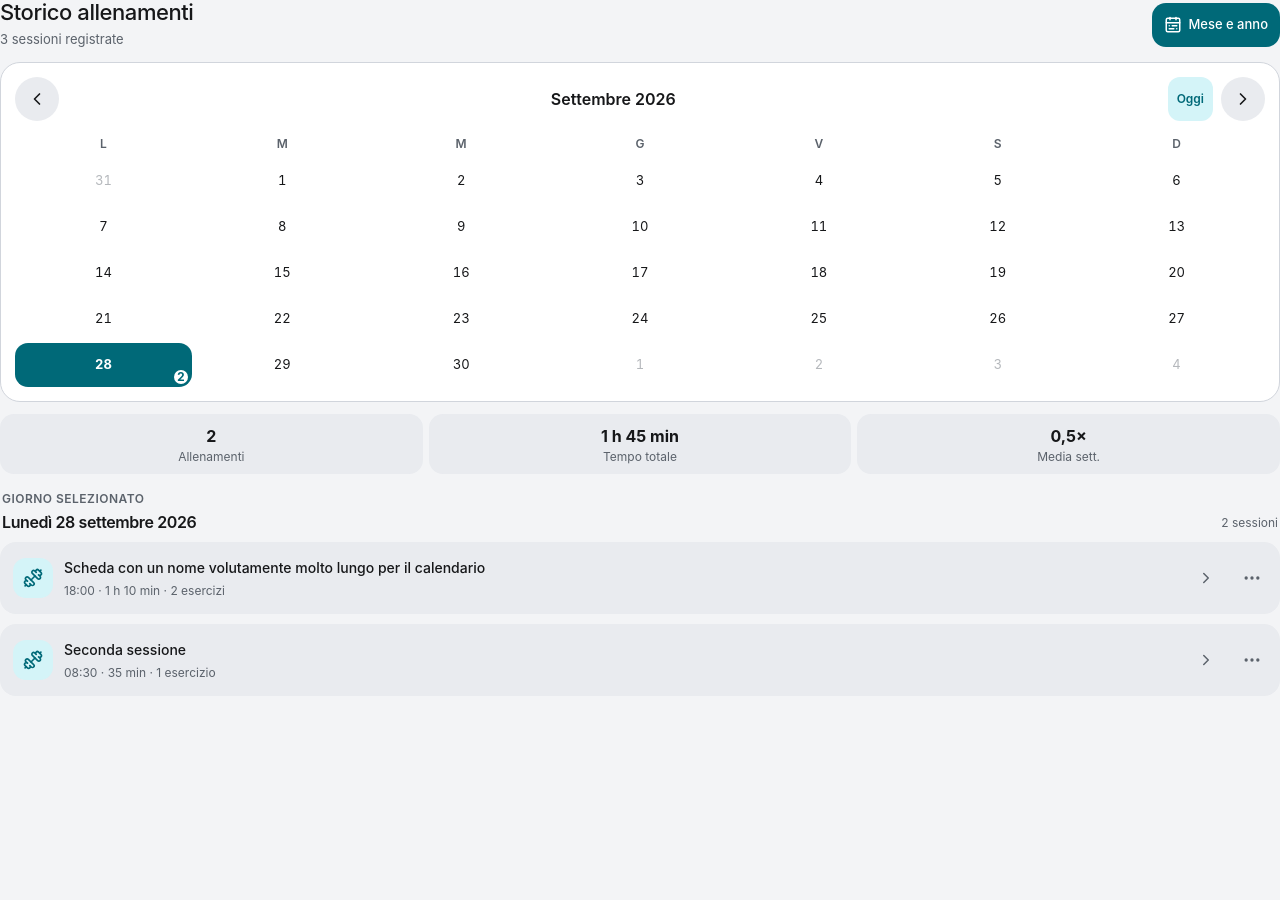
Scenario: TrainingHistory calendar › returns to the real current local date and opens the existing workout detail
What coordinates should you click on to do the following:
click the button named "Mese precedente"
I would click on:
 (37, 99)
Its box is left=15, top=77, right=59, bottom=121.
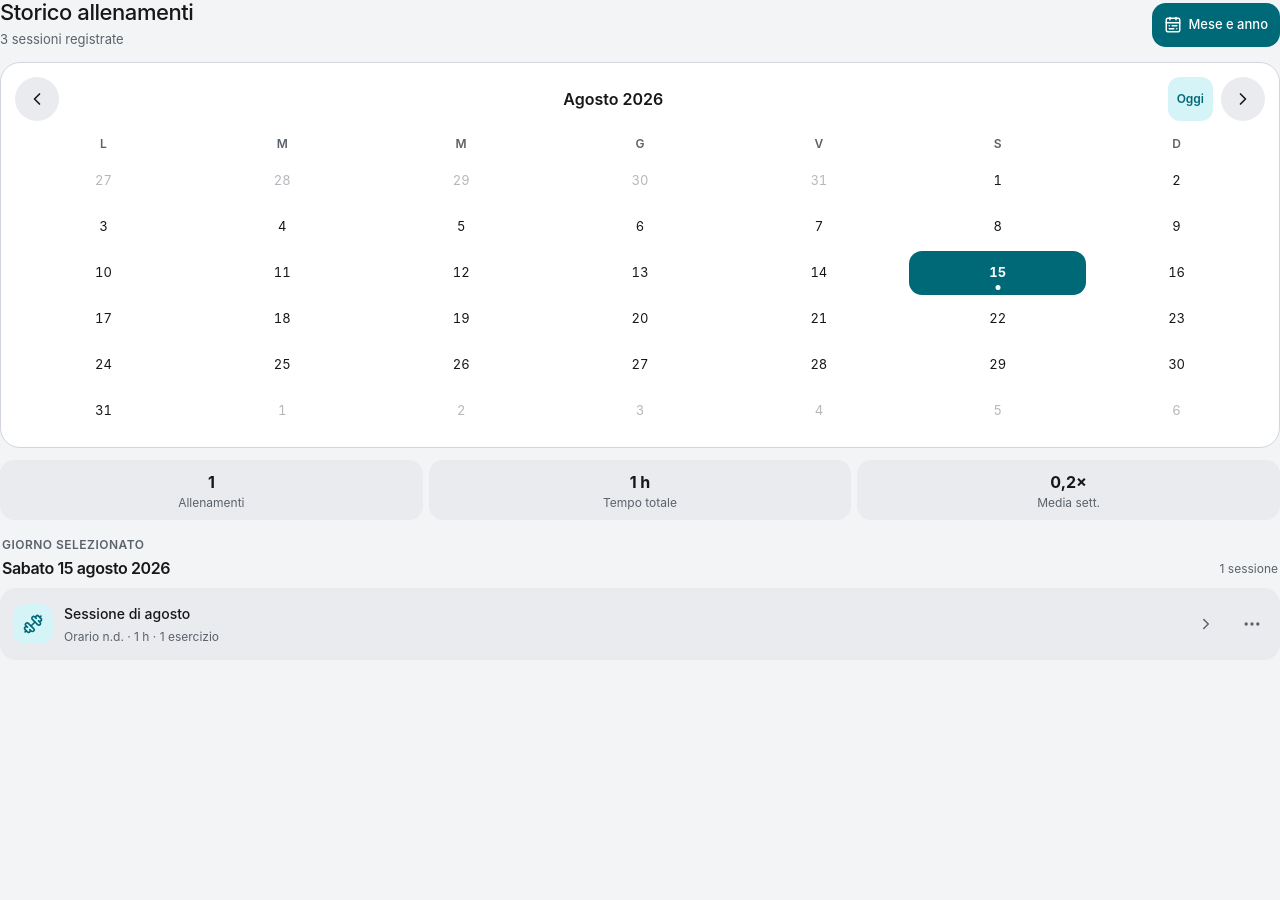
Result: the text "Agosto 2026" is shown at left=563, top=89, right=663, bottom=109
What coordinates should you click on to do the following:
click the button "Oggi"
I would click on:
 (1190, 99)
Its box is left=1168, top=77, right=1213, bottom=121.
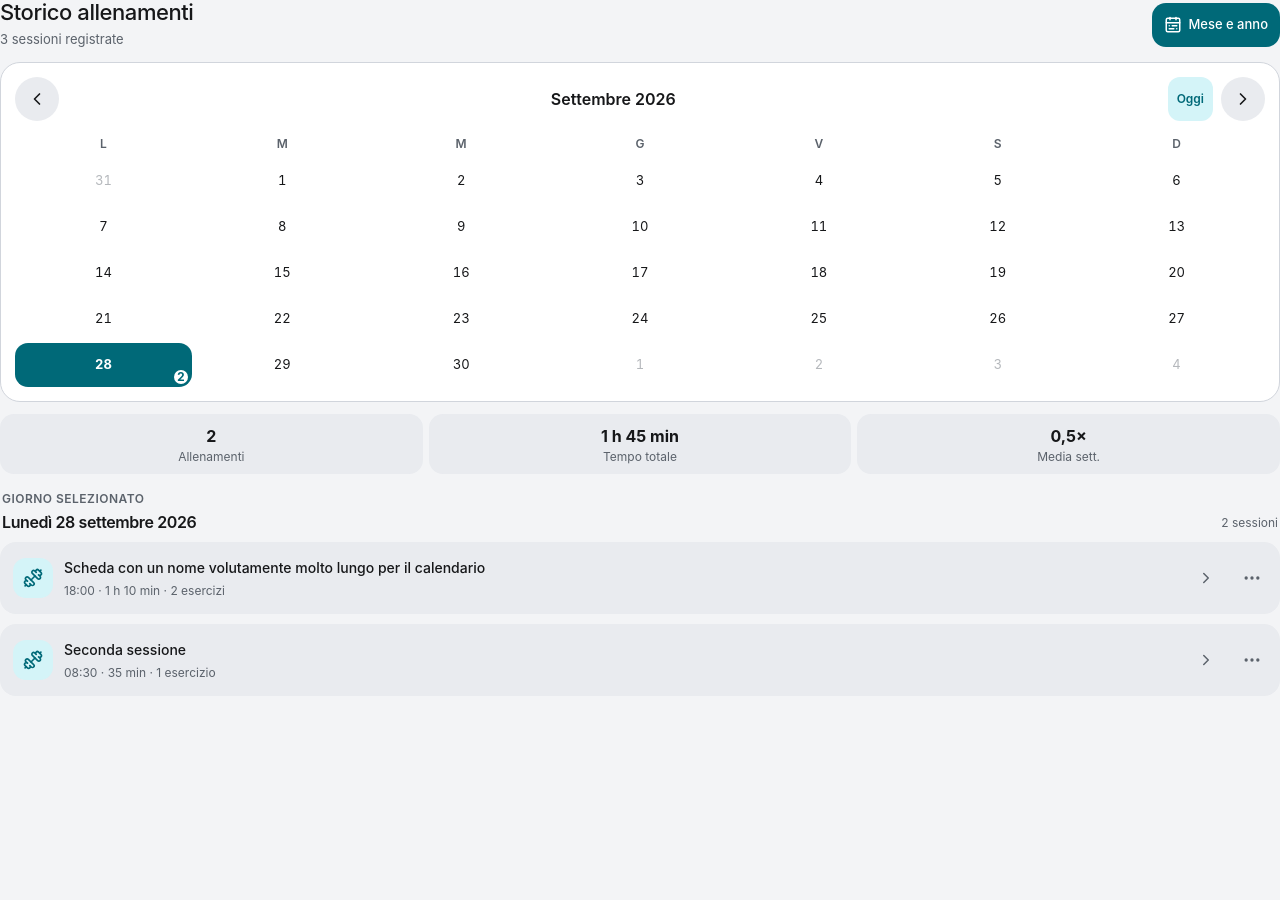
Result: the text "Settembre 2026" is shown at left=551, top=89, right=676, bottom=109
What coordinates should you click on to do the following:
click the button named "Apri il dettaglio di Scheda con un nome volutamente molto lungo"
I would click on:
 (33, 578)
Its box is left=0, top=542, right=1279, bottom=614.
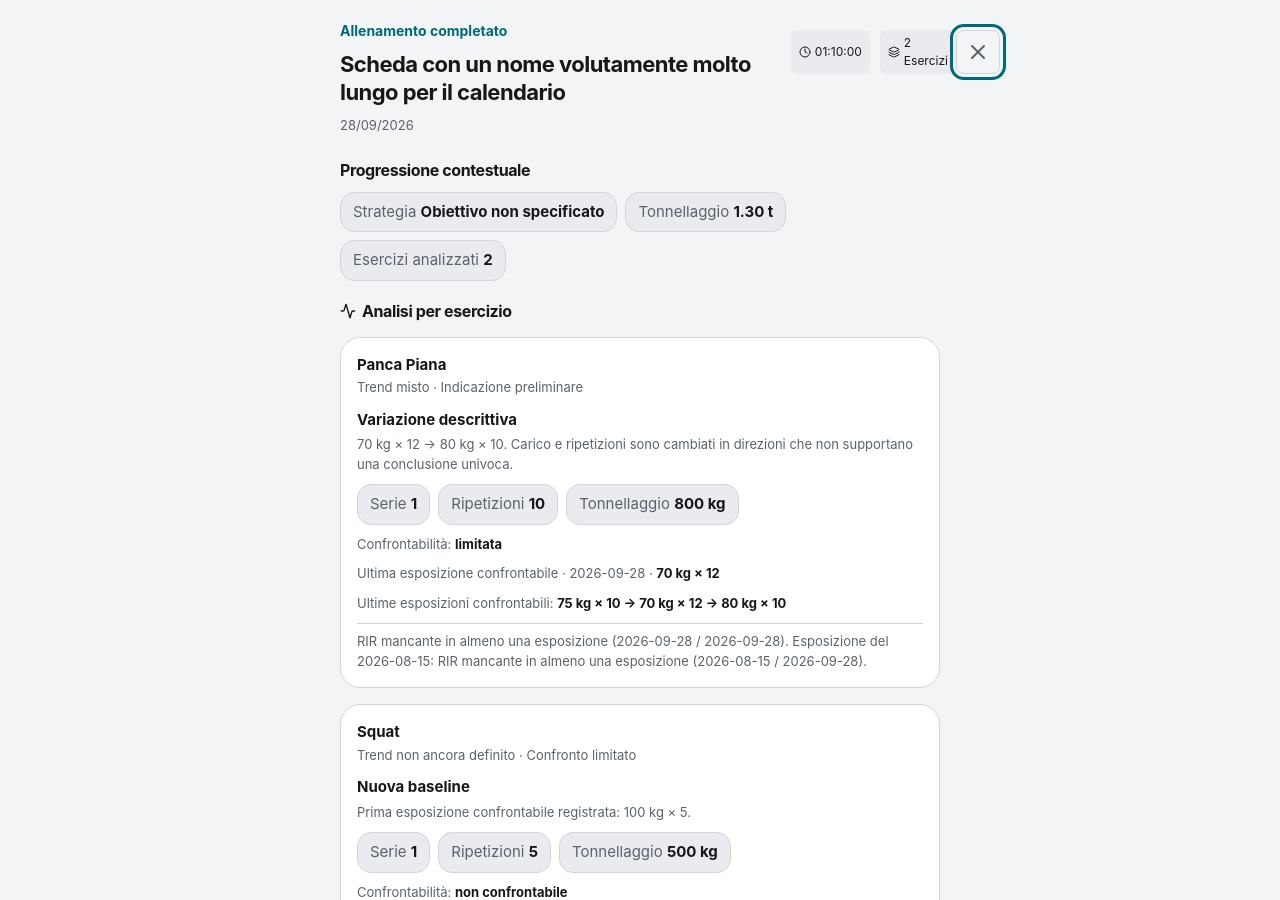
Result: the dialog is shown
Result: the text "Allenamento completato" is shown at left=340, top=22, right=507, bottom=39
